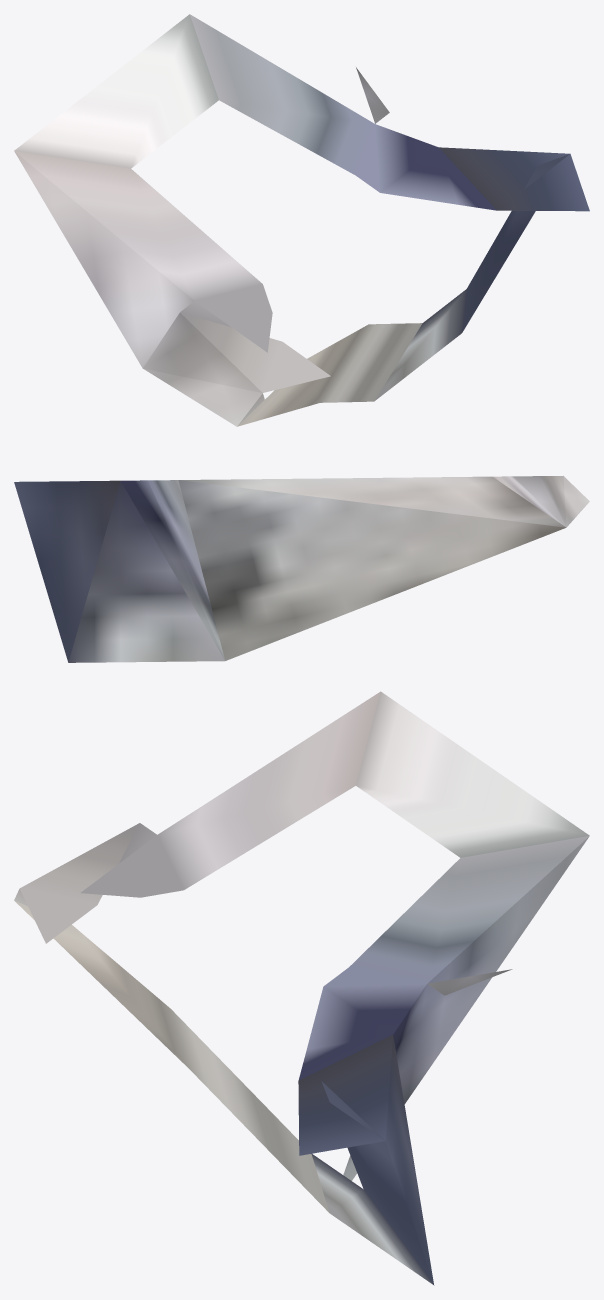
3 renders of one model, top to bottom at view 1: azimuth 30°, elevation 25°; view 2: azimuth 150°, elevation 25°; view 3: azimuth 270°, elevation 25°, orthographic. The views are drawn at different scales.
Size of the model in its own units: 6.51 by 3.51 by 5.34.
1 material, 1 textured.
